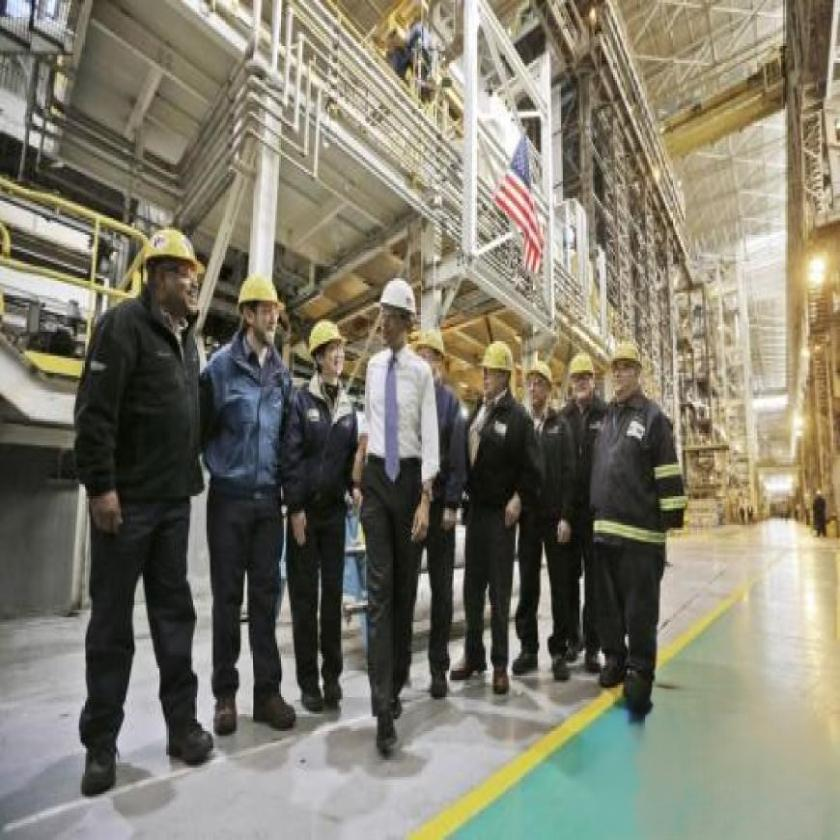Con_casco: (139, 210, 211, 334), (239, 262, 288, 363), (308, 310, 350, 399), (378, 268, 420, 356), (478, 330, 522, 406), (608, 334, 646, 397), (566, 347, 600, 414)
